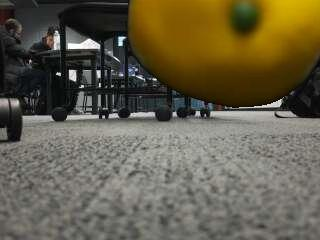lemon: (129, 0, 320, 106)
